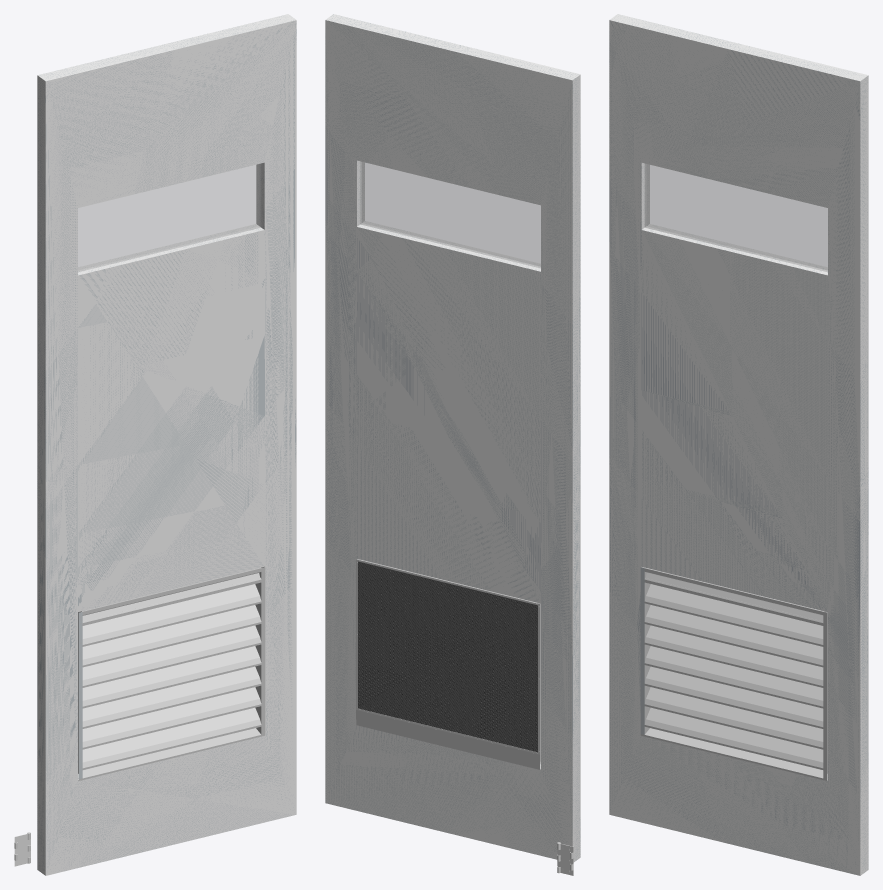
Rendered from board.dae.
The picture shows the model from 3 angles, left to right: view 1: azimuth 30°, elevation 25°; view 2: azimuth 150°, elevation 25°; view 3: azimuth 330°, elevation 25°; orthographic projection.
Parts seen in each view (by area): view 1: group_7.008, group_8.018, group_2.025, group_8.016, group_8.006, group_8.014, group_8.015, group_8.013, group_7.004, group_8.017; view 2: group_7.008, group_9.021, group_2.025, group_8.018, group_7.004, group_9.029; view 3: group_7.008, group_8.018, group_2.025, group_8.016, group_8.006, group_8.014, group_8.015, group_8.013, group_7.004, group_8.017.
Part boxes in pixels (left/top/right/bottom): group_7.008: left=37, top=14, right=296, bottom=875; group_8.018: left=78, top=567, right=265, bottom=780; group_2.025: left=78, top=164, right=260, bottom=271; group_8.016: left=82, top=584, right=261, bottom=646; group_8.006: left=82, top=646, right=261, bottom=708; group_8.014: left=82, top=625, right=261, bottom=687; group_8.015: left=82, top=666, right=261, bottom=728; group_8.013: left=82, top=605, right=261, bottom=667; group_7.004: left=78, top=162, right=264, bottom=275; group_8.017: left=78, top=612, right=82, bottom=779; group_7.008: left=325, top=14, right=580, bottom=862; group_9.021: left=358, top=561, right=537, bottom=752; group_2.025: left=360, top=162, right=540, bottom=267; group_8.018: left=356, top=559, right=540, bottom=769; group_7.004: left=357, top=160, right=540, bottom=271; group_9.029: left=356, top=559, right=539, bottom=754; group_7.008: left=609, top=14, right=868, bottom=875; group_8.018: left=640, top=567, right=827, bottom=780; group_2.025: left=644, top=163, right=827, bottom=271; group_8.016: left=644, top=584, right=823, bottom=646; group_8.006: left=644, top=646, right=823, bottom=708; group_8.014: left=644, top=625, right=823, bottom=687; group_8.015: left=644, top=666, right=823, bottom=728; group_8.013: left=644, top=605, right=823, bottom=667; group_7.004: left=641, top=163, right=827, bottom=275; group_8.017: left=640, top=567, right=644, bottom=734.
Size of the model in its own units: 0.8168 by 0.1135 by 2.37.
7 materials, 1 textured.
